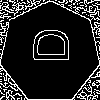D: (25, 27, 69, 63)
